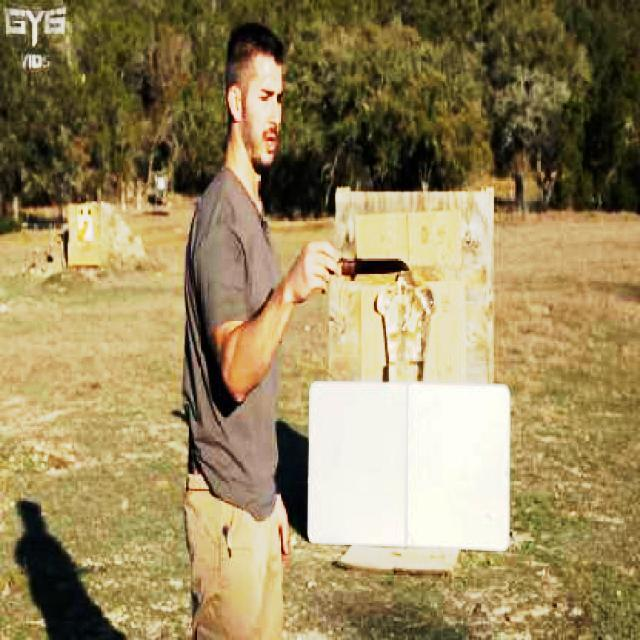Knife: (318, 240, 452, 282)
